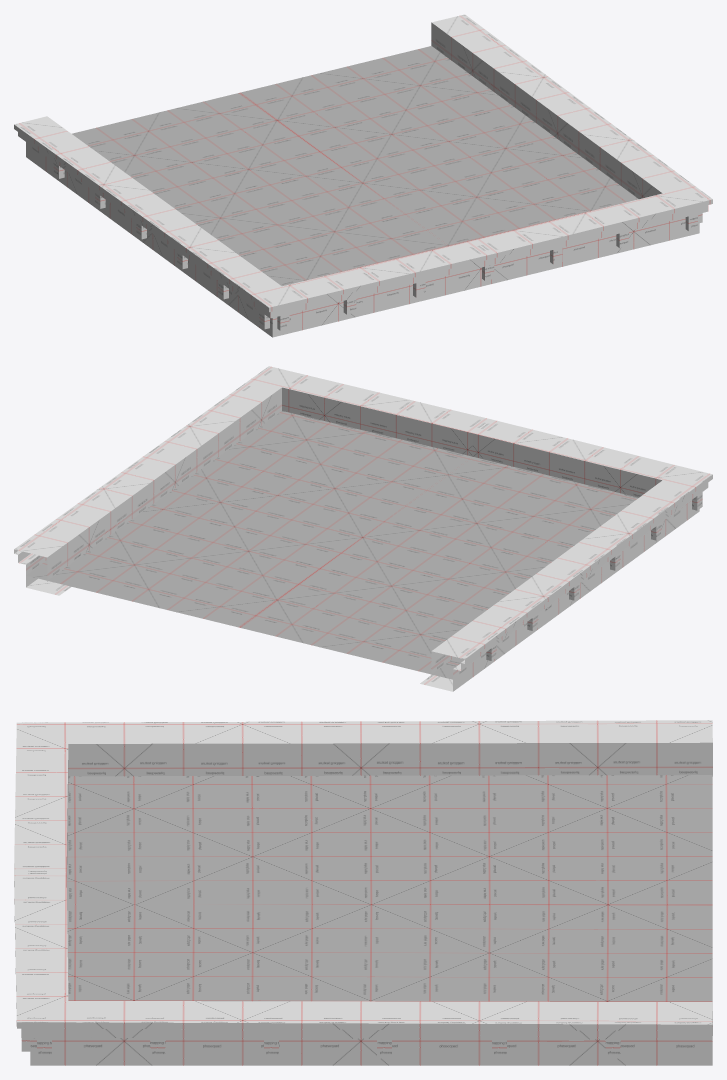
The model's file is T_03_3x_fullclose.FBX.
3 renders of one model, top to bottom at view 1: azimuth 30°, elevation 25°; view 2: azimuth 150°, elevation 25°; view 3: azimuth 270°, elevation 25°, orthographic. The views are drawn at different scales.
Visible parts, largest first — view 1: Object001; view 2: Object001; view 3: Object001.
Part boxes in pixels (<box>): Object001: <box>14,14,712,337</box>; Object001: <box>14,366,712,691</box>; Object001: <box>14,720,712,1065</box>.
Size of the model in its own units: 63.34 by 61.47 by 4.76.
